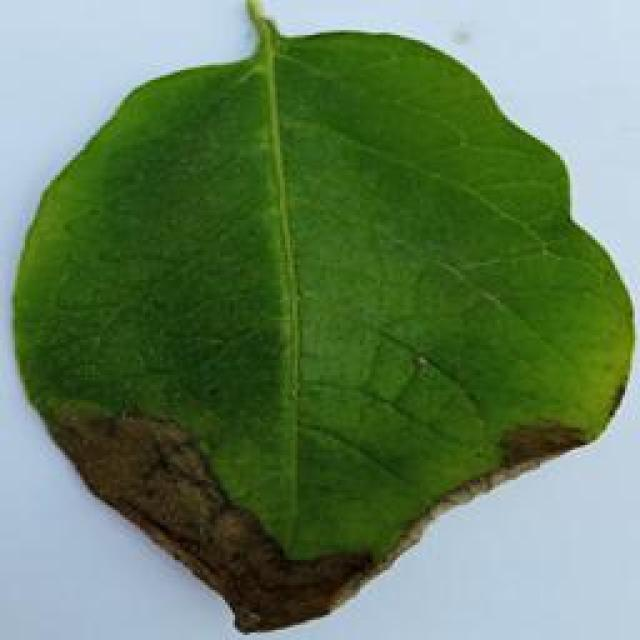Potato_Late_Blight: (13, 4, 625, 634)
